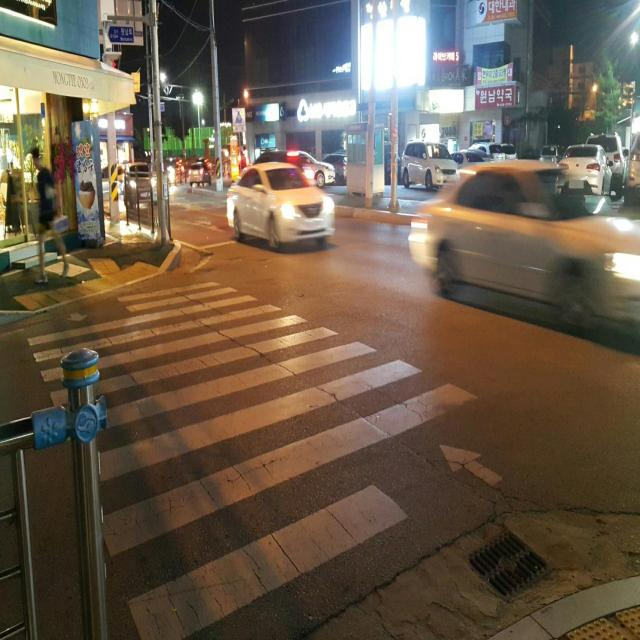횡단보도: (24, 277, 507, 640)
